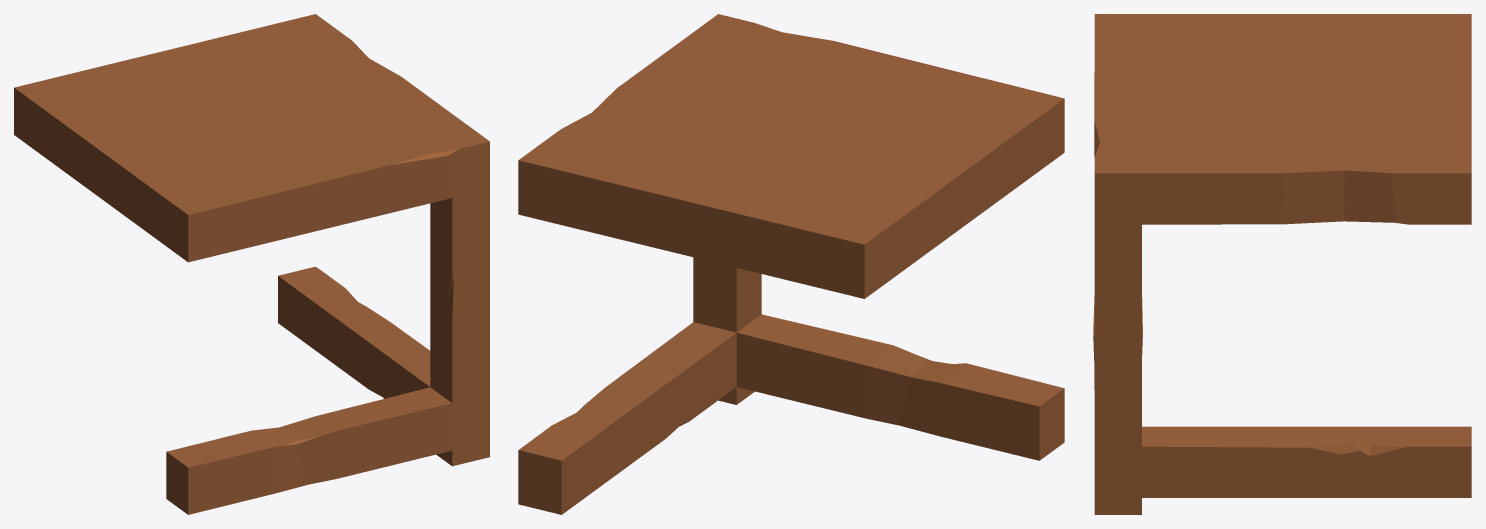
Rendered from Workshop_Counter_Corner.fbx.
The picture shows the model from 3 angles, left to right: view 1: azimuth 30°, elevation 25°; view 2: azimuth 150°, elevation 25°; view 3: azimuth 270°, elevation 25°; orthographic projection. The views are drawn at different scales.
Parts seen in each view (by area): view 1: Cube; view 2: Cube; view 3: Cube.
Part boxes in pixels (x1=…): Cube: x1=14, y1=14, x2=489, y2=514; Cube: x1=518, y1=14, x2=1064, y2=514; Cube: x1=1093, y1=14, x2=1471, y2=514.
Bounding box in the file's own units: 200 × 201 × 201.
